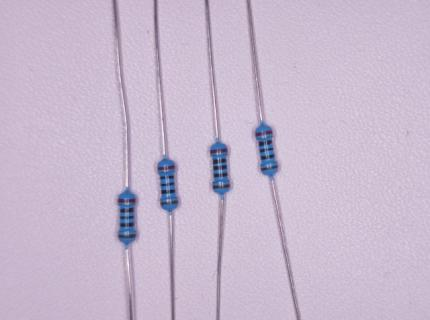Black band: (258, 139, 273, 147), (120, 222, 135, 228), (162, 189, 176, 195), (213, 165, 227, 171), (213, 158, 227, 164), (261, 154, 275, 160), (260, 147, 274, 153), (120, 208, 135, 213), (120, 215, 135, 220), (160, 182, 175, 187), (213, 173, 228, 178), (160, 175, 174, 180)
Brown band: (260, 164, 279, 172), (160, 200, 179, 206), (118, 234, 136, 239), (213, 185, 230, 190)
Red band: (210, 148, 228, 154), (255, 131, 273, 137), (158, 165, 176, 171), (117, 198, 136, 203)
